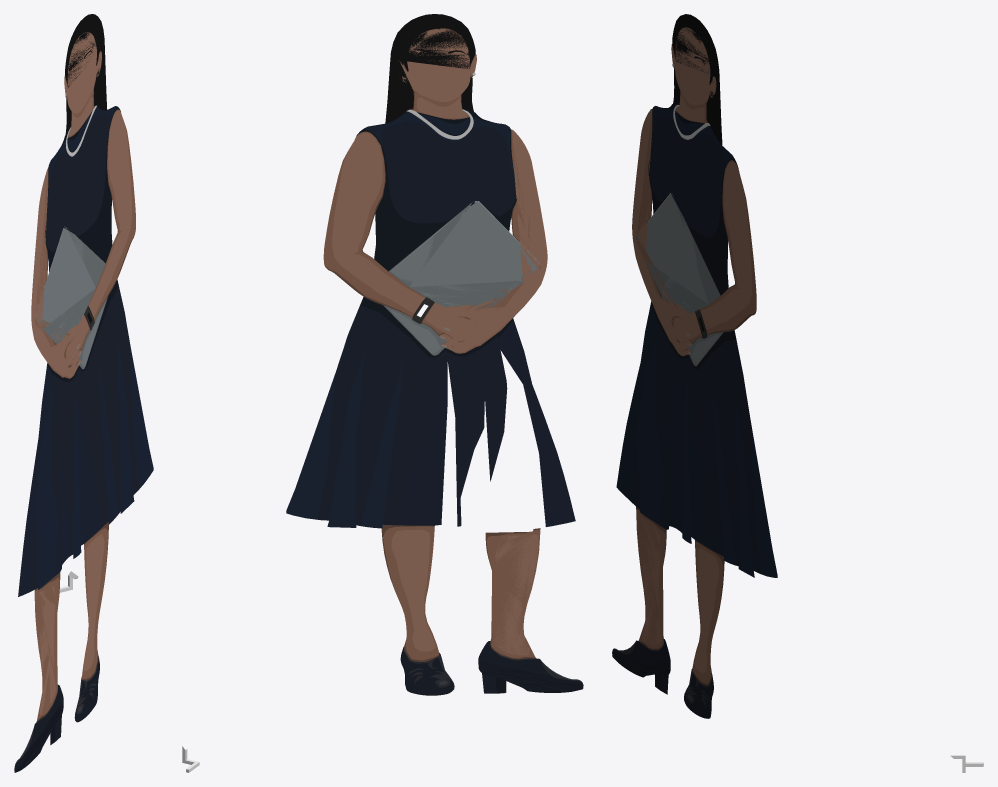
The model's file is Penrose-far.fbx.
3 renders of one model, left to right at view 1: azimuth 30°, elevation 25°; view 2: azimuth 150°, elevation 25°; view 3: azimuth 270°, elevation 25°, orthographic. The views are drawn at different scales.
Parts seen in each view (by area): view 1: Sree1; view 2: Sree1; view 3: Sree1.
Boxes of the visible parts, <box> form: Sree1: <box>14,14,153,772</box>; Sree1: <box>286,14,583,695</box>; Sree1: <box>612,14,777,718</box>.
Bounding box in the file's own units: 21.97 × 62.73 × 30.33.
